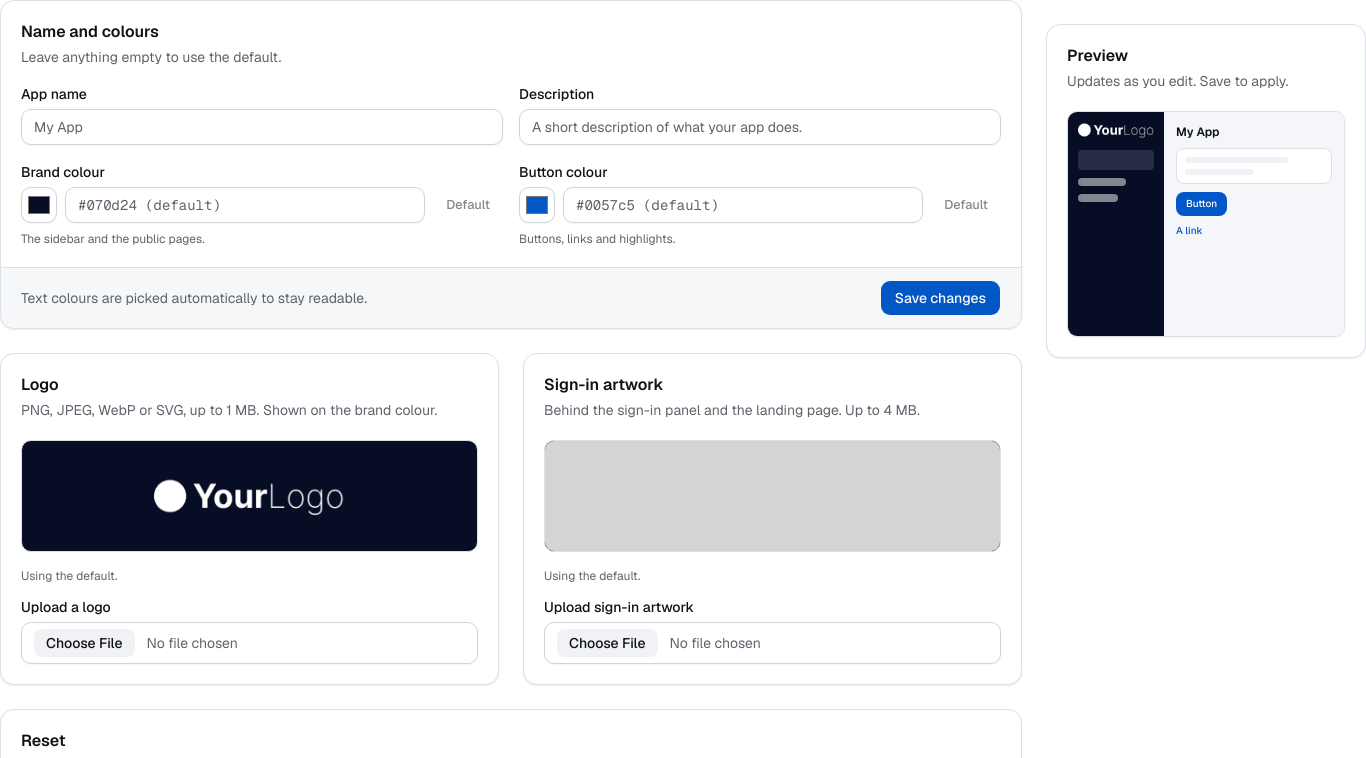
Test: BrandingForm › a colour that isn't #rrggbb is flagged and not saved
Type "teal" into the field named "brand colour hex" at (245, 205), box [65,187,425,223]
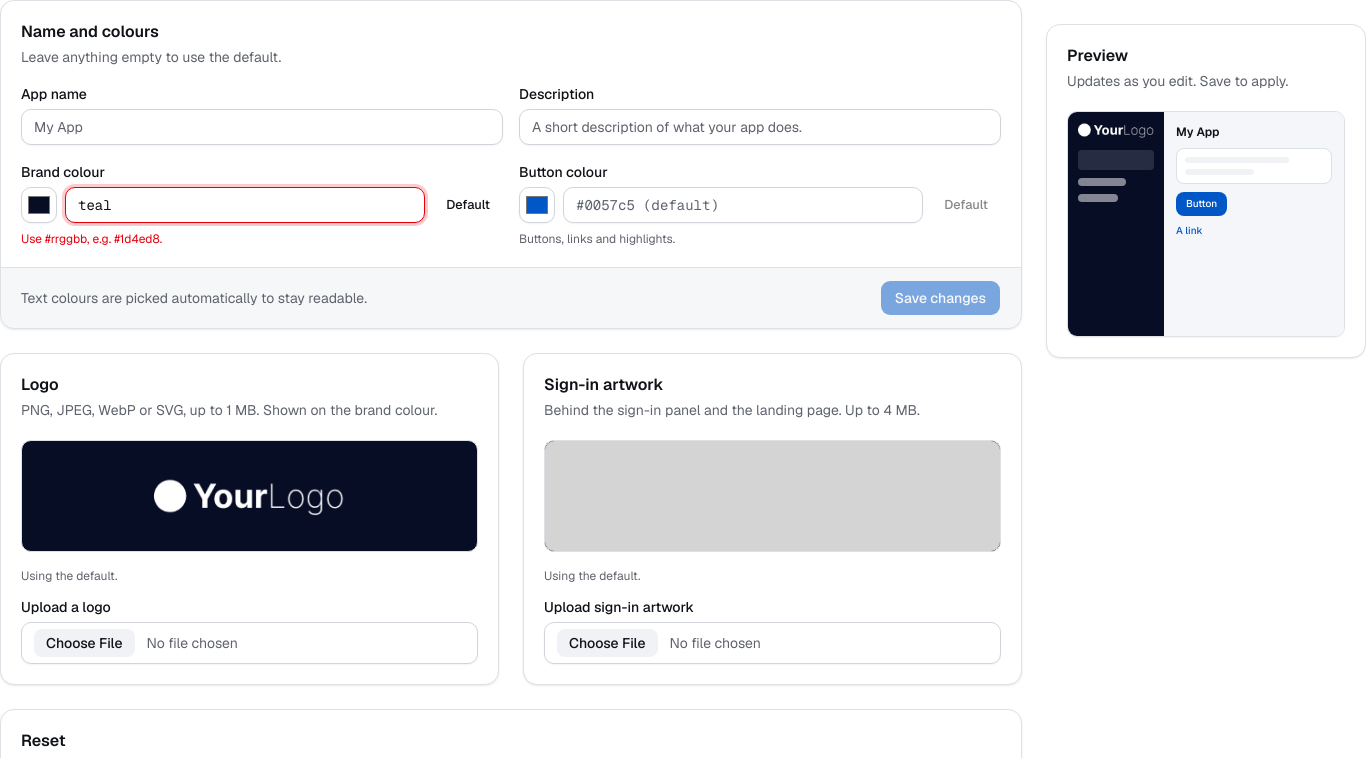
Check: the text "Use #rrggbb, e.g. #1d4ed8." is shown, box [21,231,162,247]
Check: the button "Save changes" is disabled, box [880,280,1001,316]
